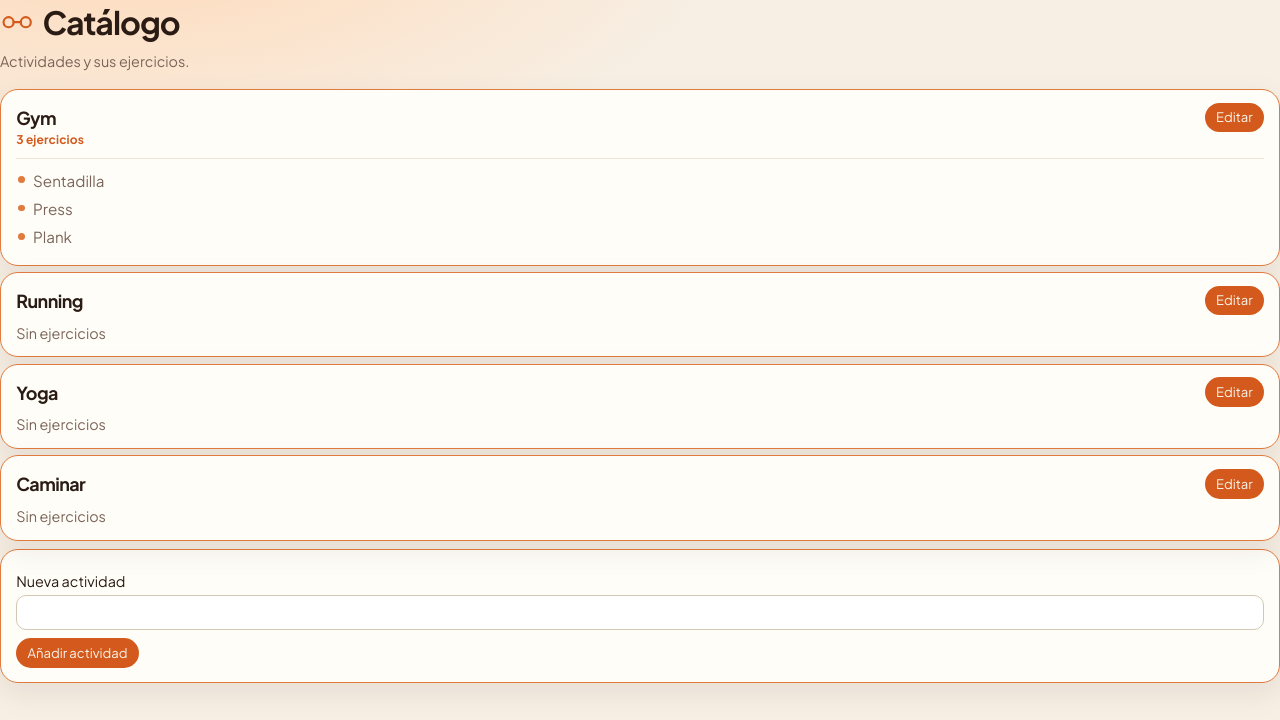
Test: Catálogo › muestra la lista y solo deja cambiarla al editar
Expected: the text "Añadir ejercicio" is not shown
Click the button "Editar" in the row of "Gym": (1234, 118) [1205,103,1264,132]
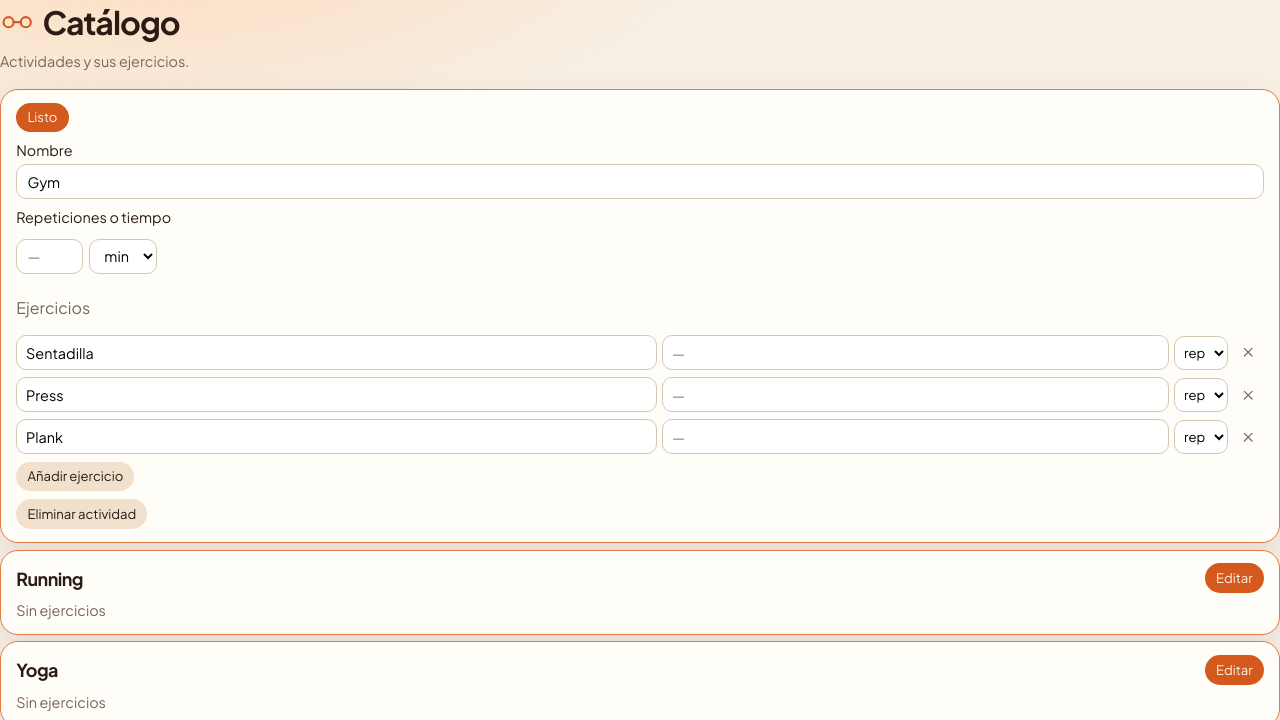
Expected: the 1st field named "Nombre del ejercicio" is shown, [16,335,657,370]
Expected: the field named "Cantidad de la actividad" is shown, [16,239,83,274]
Expected: the dropdown named "Unidad de la actividad" is shown, [89,239,157,274]
